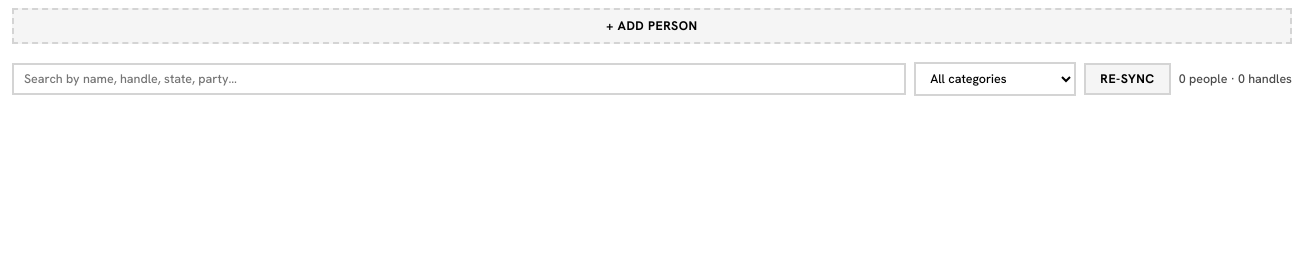
Test: PeopleTab — add person form › parses a pasted bluesky URL and routes to the bluesky box
Click the button "+ Add person": (652, 26) [12,8,1292,44]
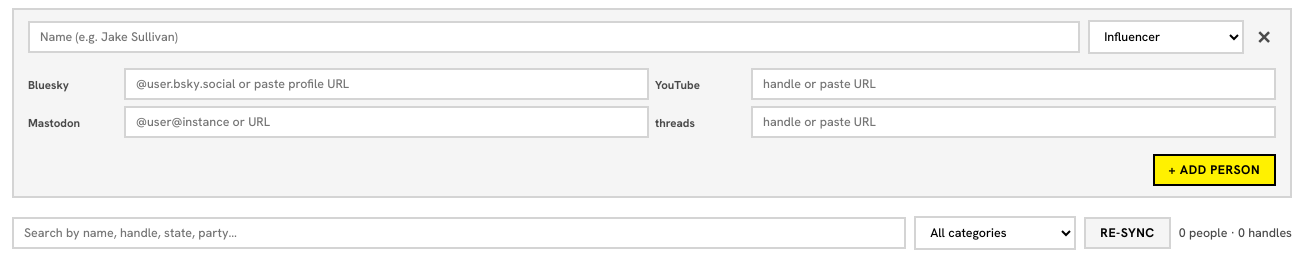
In the field with placeholder "@user.bsky.social or paste profile URL": (386, 84) [124,68,649,100], type "https://bsky.app/profile/foo.bsky.social"
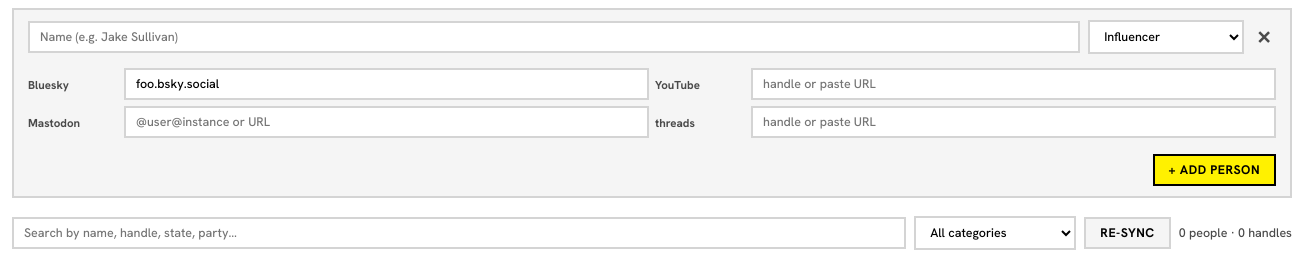
Expected: the field with placeholder "@user.bsky.social or paste profile URL" holds "foo.bsky.social", [124,68,649,100]
